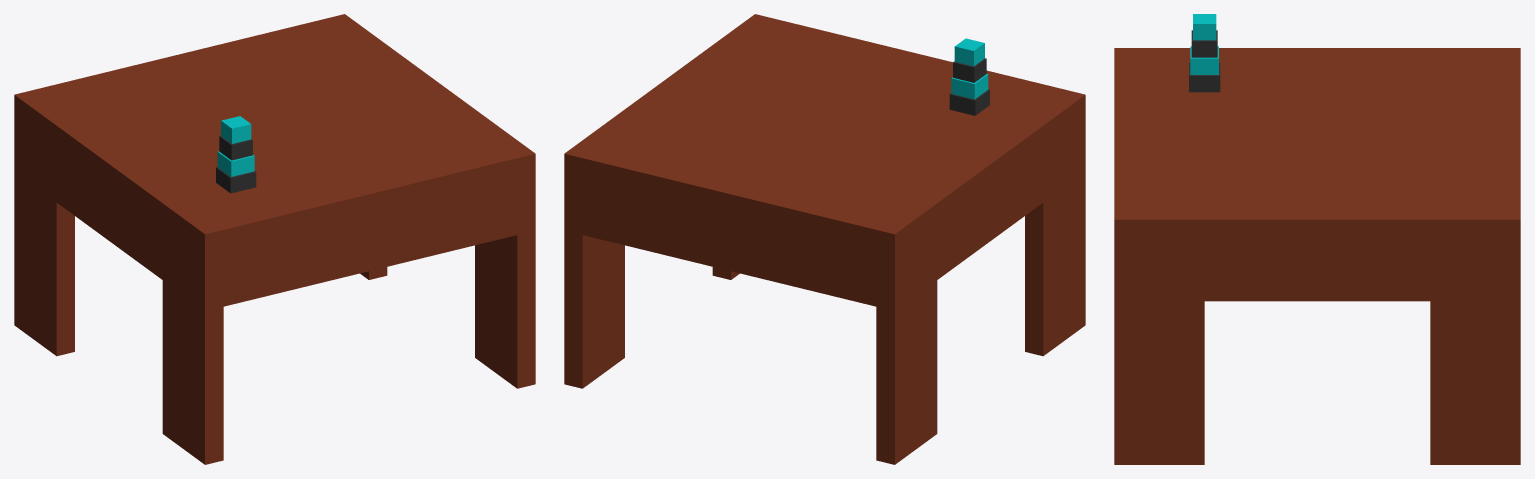
The model's file is hanoi_world_4_boxes.dae.
3 renders of one model, left to right at view 1: azimuth 30°, elevation 25°; view 2: azimuth 150°, elevation 25°; view 3: azimuth 270°, elevation 25°, orthographic. The views are drawn at different scales.
Visible parts, largest first — view 1: base (×8); view 2: base (×8); view 3: base (×7).
Part boxes in pixels (x1,y1,x2,y2): base (×8): [14, 14, 535, 464]; base (×8): [564, 14, 1085, 464]; base (×7): [1114, 14, 1520, 464].
Bounding box in the file's own units: 0.9 × 0.9 × 0.764.
